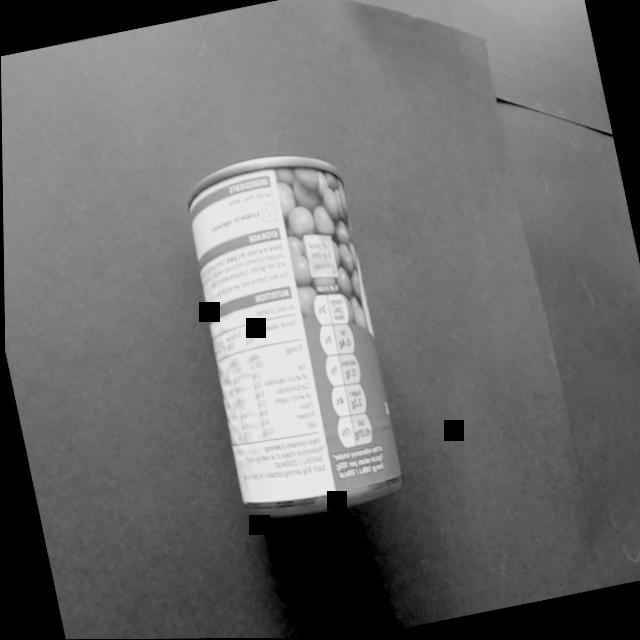Peas: (136, 114, 434, 558)
